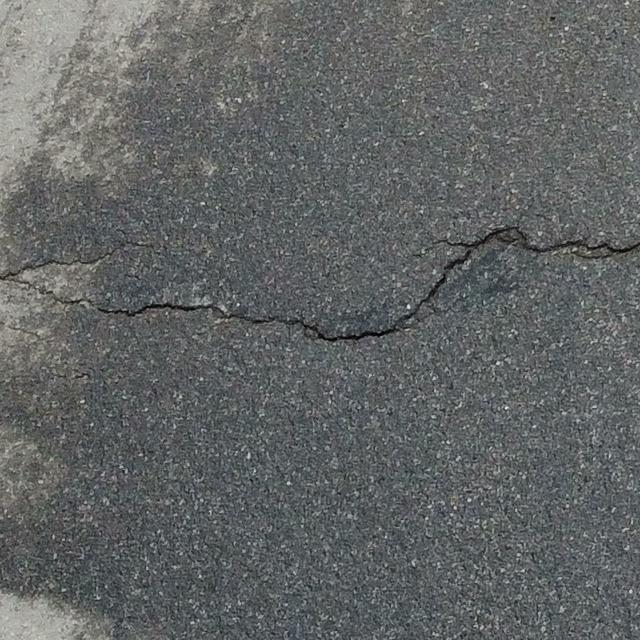TransverseCrack: (3, 227, 640, 345)
